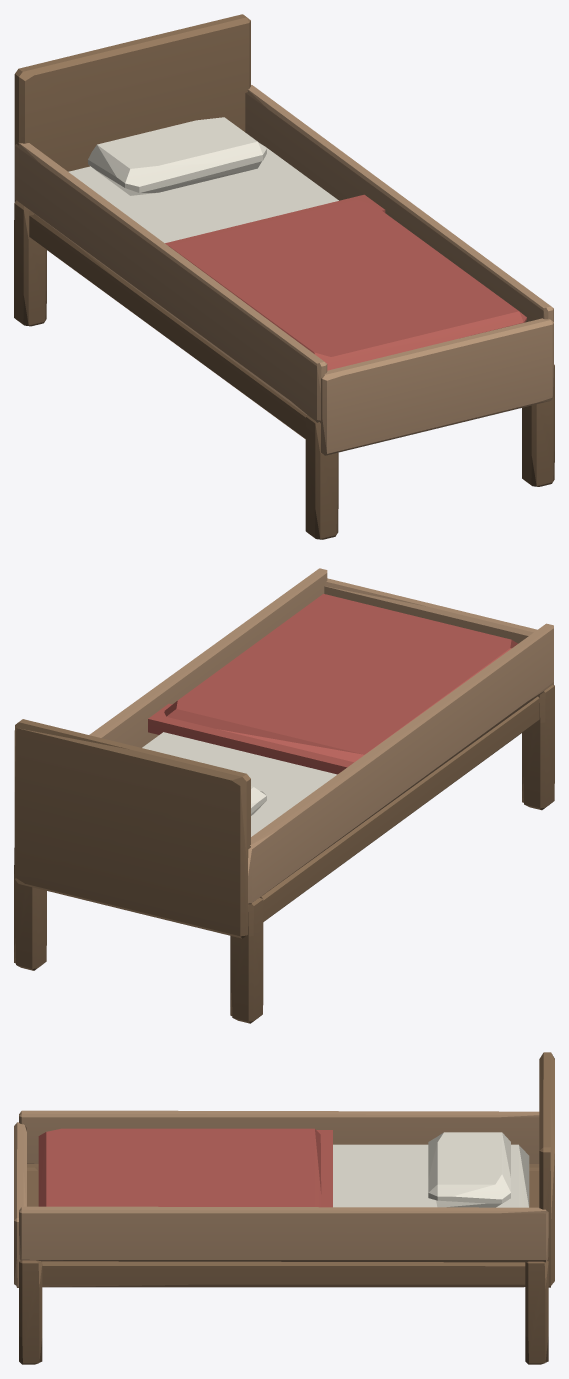
File: kajuete_koje.glb
The picture shows the model from 3 angles, top to bottom: view 1: azimuth 30°, elevation 25°; view 2: azimuth 150°, elevation 25°; view 3: azimuth 270°, elevation 25°; orthographic projection. The views are drawn at different scales.
Parts seen in each view (by area): view 1: G_kajuete_koje; view 2: G_kajuete_koje; view 3: G_kajuete_koje.
Boxes of the visible parts, x1,y1,x2,y2 form: G_kajuete_koje: (14, 14, 554, 539); G_kajuete_koje: (14, 568, 554, 1023); G_kajuete_koje: (14, 1052, 554, 1364).
Size of the model in its own units: 0.93 by 0.92 by 2.09.
